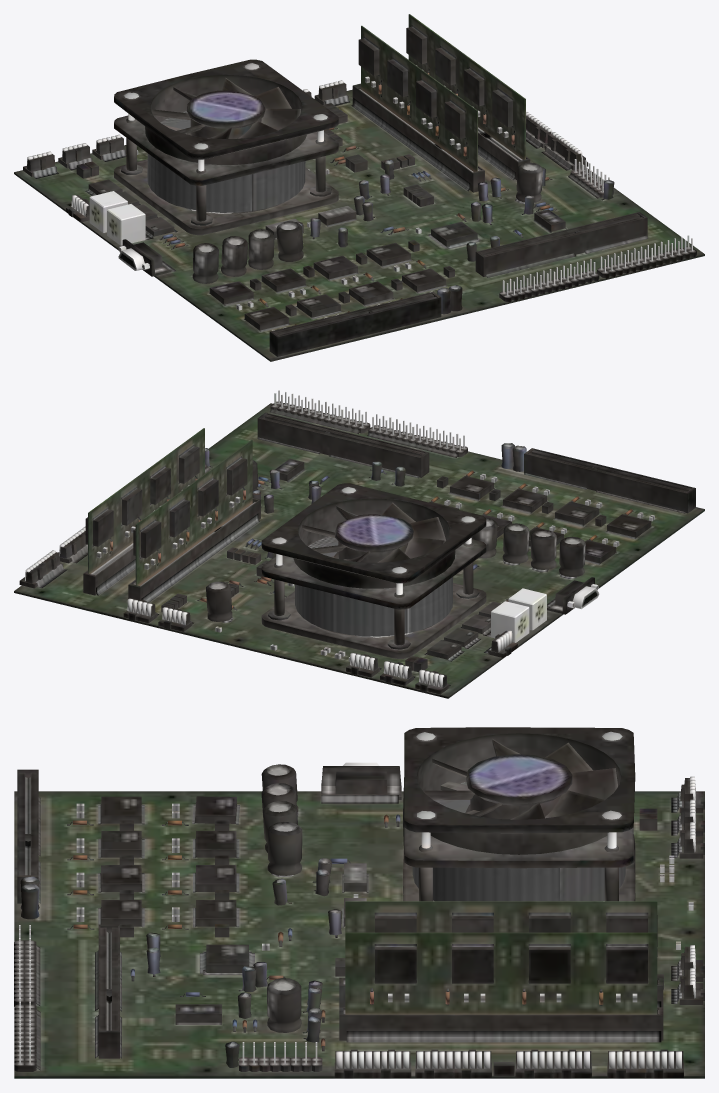
Rendered from circuit_board.glb.
3 views of the same model, one above another, from view 1: azimuth 30°, elevation 25°; view 2: azimuth 150°, elevation 25°; view 3: azimuth 270°, elevation 25° (orthographic). The views are drawn at different scales.
Parts seen in each view (by area): view 1: circuit_board; view 2: circuit_board; view 3: circuit_board.
Part boxes in pixels (box(x1,y1,x2,y2)): circuit_board: box(14, 14, 704, 361); circuit_board: box(14, 390, 704, 698); circuit_board: box(14, 727, 704, 1078).
Size of the model in its own units: 0.4035 by 0.0783 by 0.3974.
Materials: 2 (2 with a texture image).
